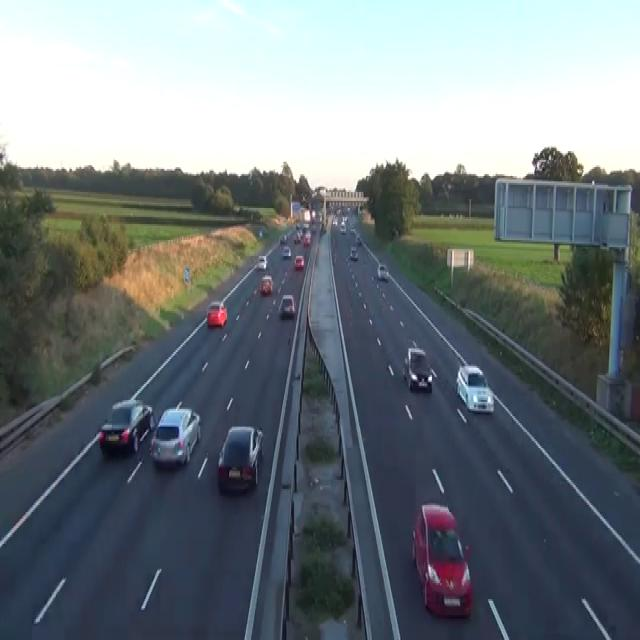Car: (411, 501, 472, 617), (149, 402, 201, 466), (217, 425, 264, 492), (99, 398, 155, 454), (455, 364, 494, 412), (403, 347, 432, 391), (206, 301, 227, 327), (278, 294, 295, 316), (259, 274, 273, 295), (376, 263, 388, 281), (294, 254, 304, 268), (257, 254, 267, 268), (349, 246, 358, 260), (282, 245, 291, 258), (319, 222, 326, 235), (303, 233, 310, 245), (279, 233, 287, 243), (293, 233, 301, 243), (340, 222, 346, 233), (302, 222, 309, 231), (355, 233, 361, 243), (311, 208, 316, 220), (310, 224, 316, 233), (336, 206, 342, 215), (328, 203, 333, 213), (350, 224, 355, 233), (332, 217, 337, 226), (282, 233, 287, 242), (352, 204, 357, 213), (318, 210, 322, 220), (296, 222, 301, 230), (342, 215, 347, 222), (258, 228, 262, 236)
